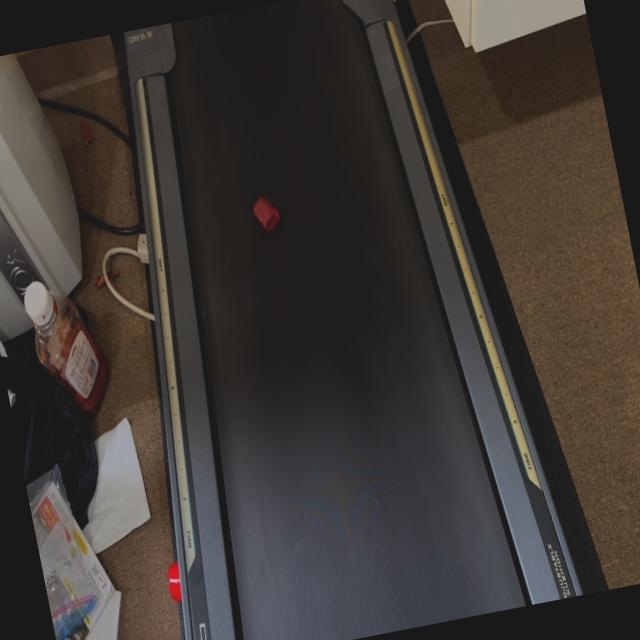Trash: (248, 184, 290, 238)
